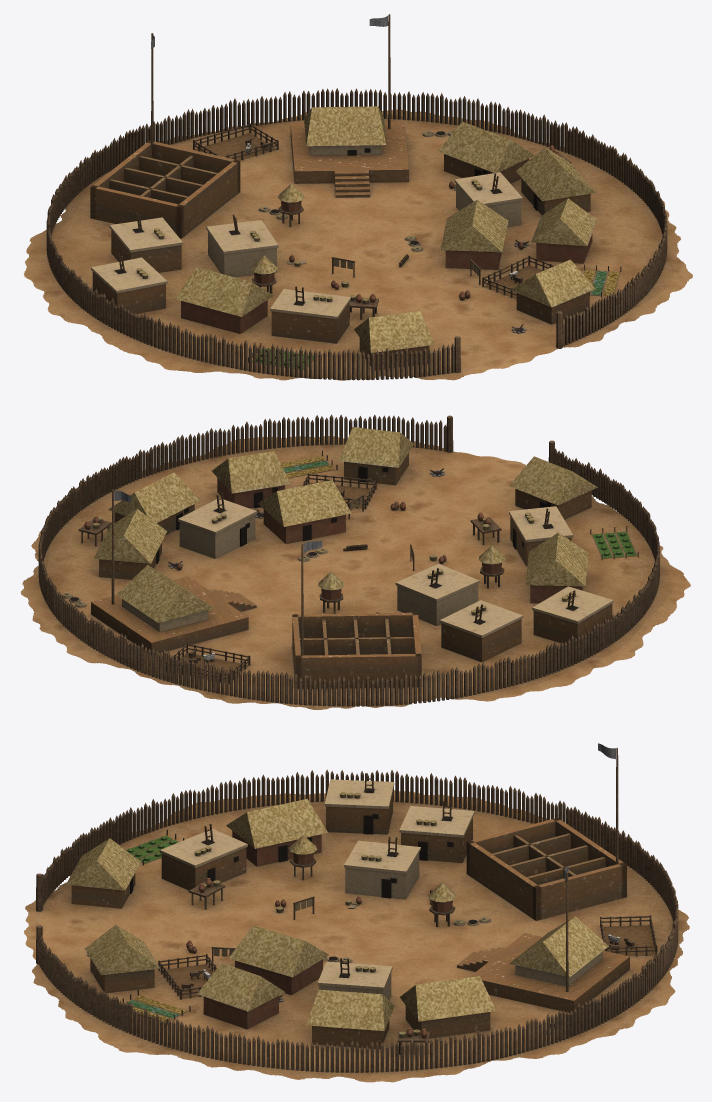
File: stone-town-medium-b-indic.glb
The picture shows the model from 3 angles, top to bottom: view 1: azimuth 30°, elevation 25°; view 2: azimuth 150°, elevation 25°; view 3: azimuth 270°, elevation 25°; orthographic projection. The views are drawn at different scales.
Visible parts, largest first — view 1: LOD0; view 2: LOD0; view 3: LOD0.
Part boxes in pixels (<box>): LOD0: <box>24,14,692,380</box>; LOD0: <box>21,414,690,709</box>; LOD0: <box>24,743,689,1082</box>.
Size of what is drawn, in the model's own units: 5.98 by 1.4 by 5.74.
Materials: 3 (3 with a texture image).
